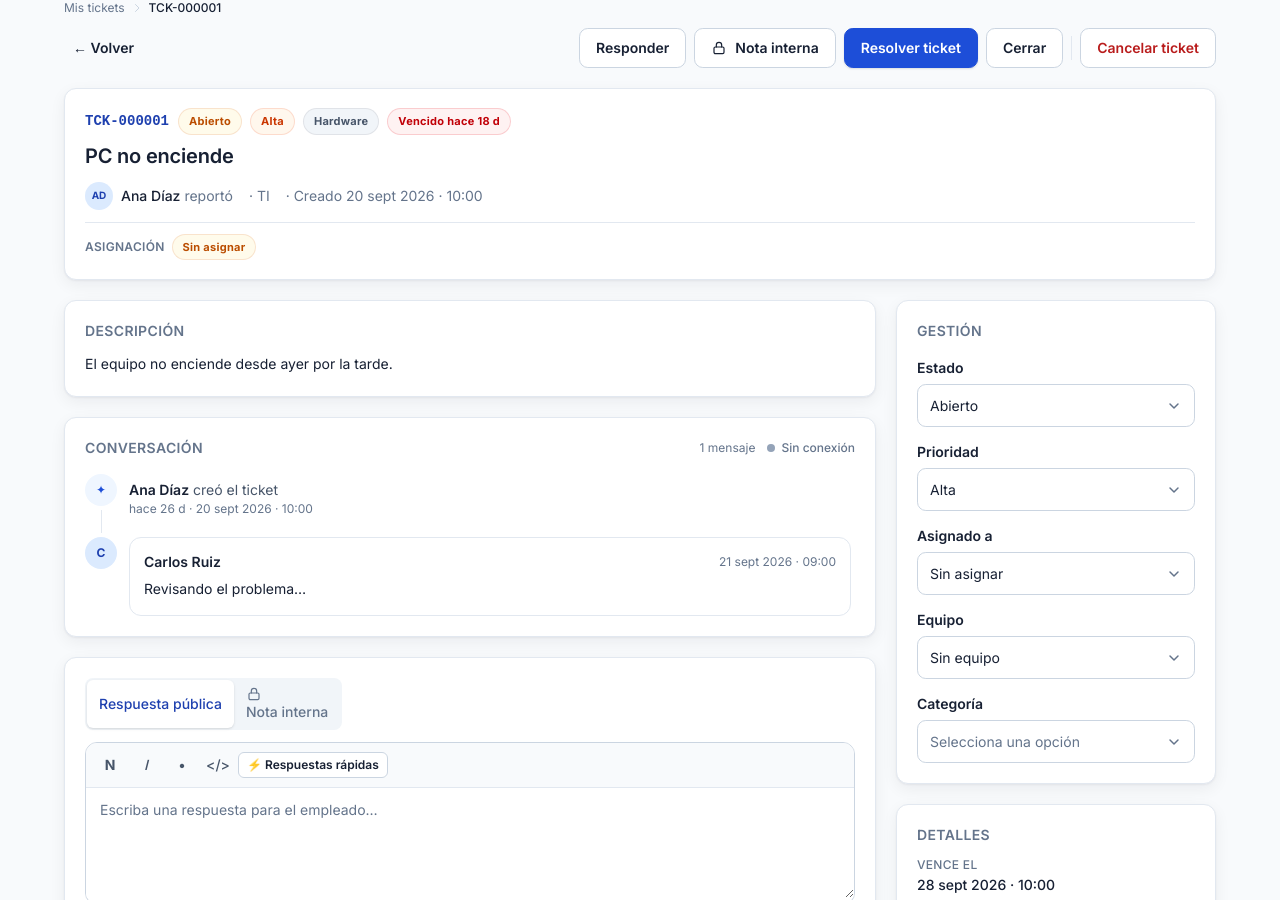
Test: TicketDetail › con permiso de resolver, elegir "Resuelto" abre el drawer de solución
Expected: the heading "PC no enciende" is shown, [85,144,234,168]
What coordinates should you click on to do the following:
click the dropdown labelled "Abierto"
I would click on:
 (954, 406)
Its box is [917,384,1195,427].
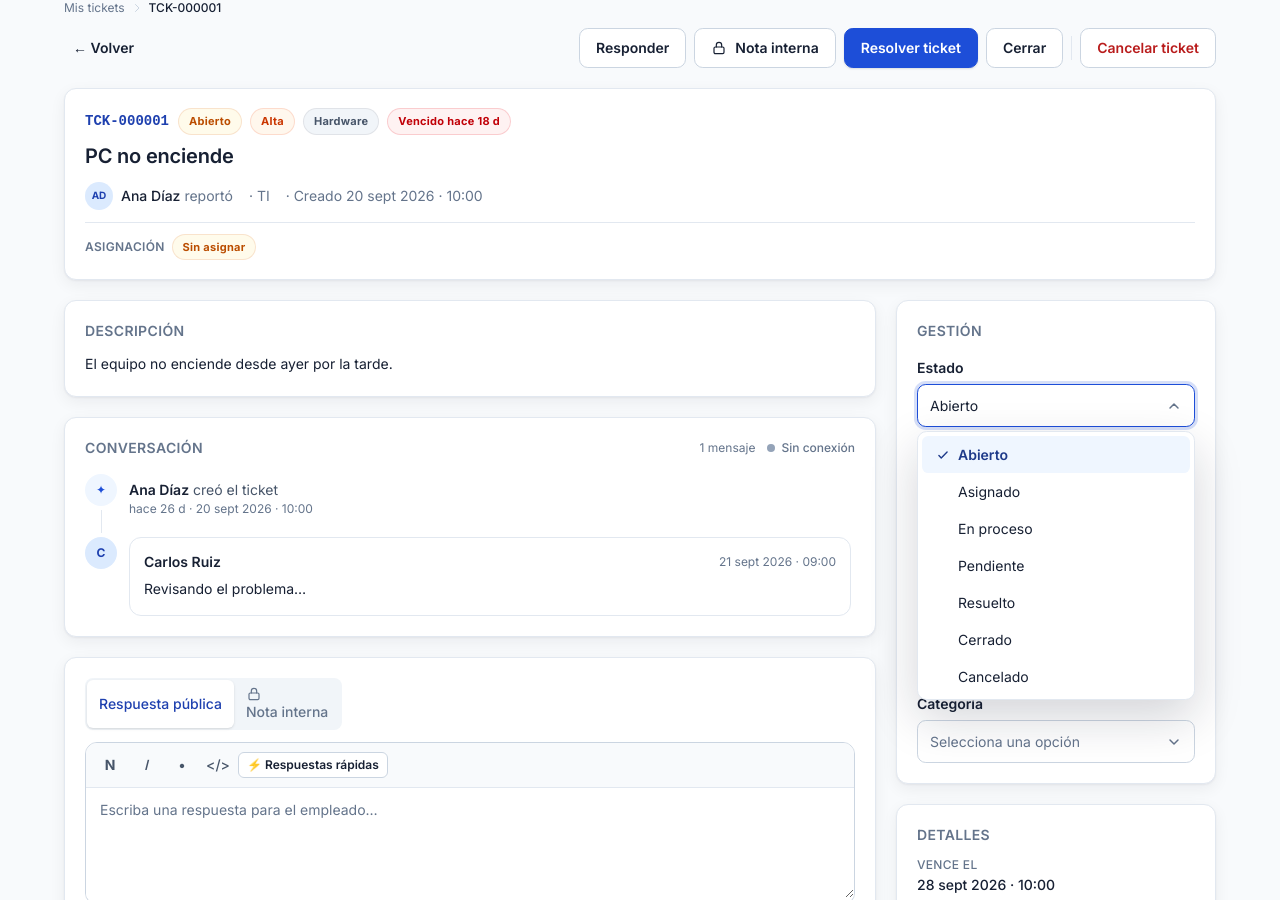
What coordinates should you click on to do the following:
click the option "Resuelto"
I would click on:
 (987, 602)
Its box is [958,594,1015,611].
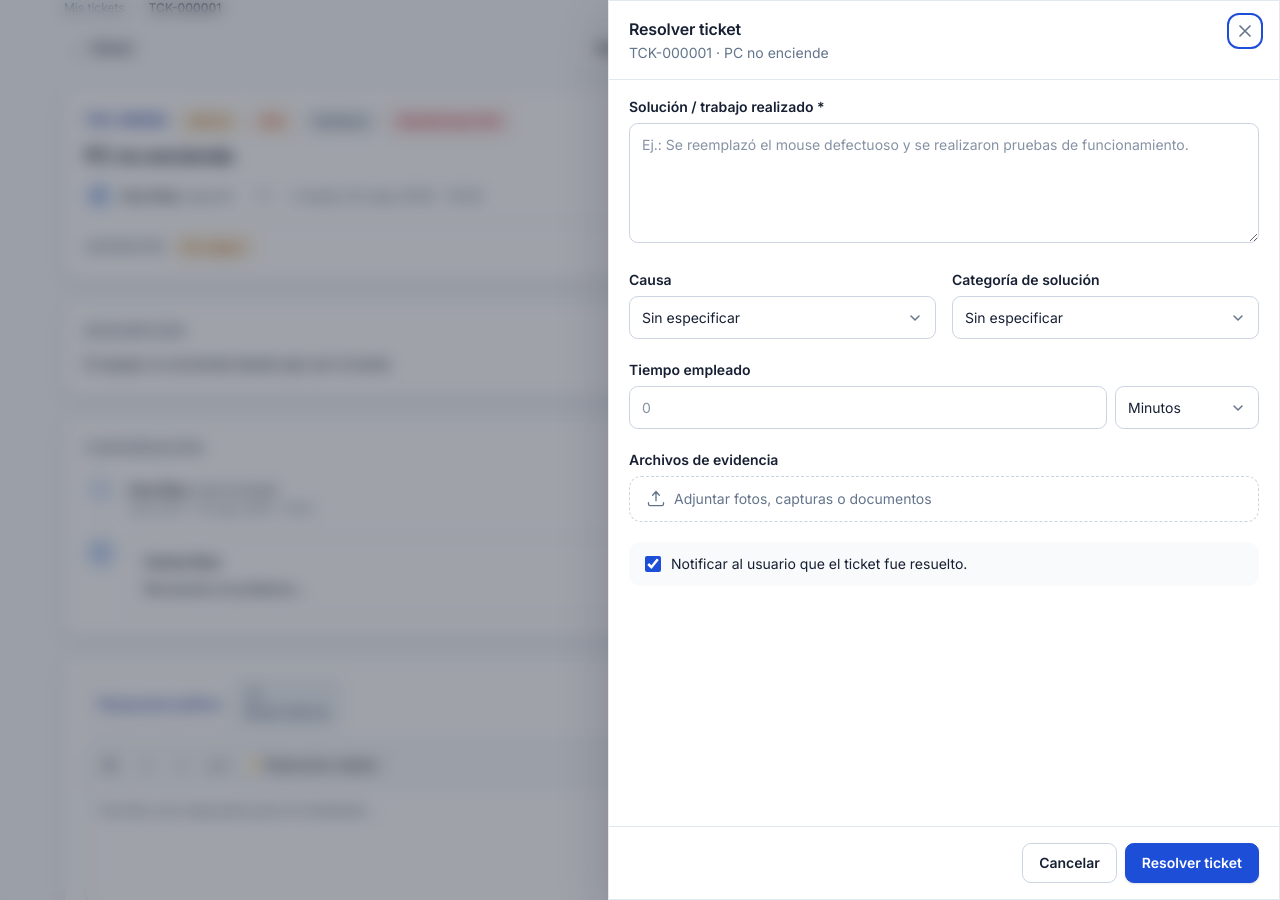
Now the dialog "Resol" is shown, box [608,0,1279,899]
